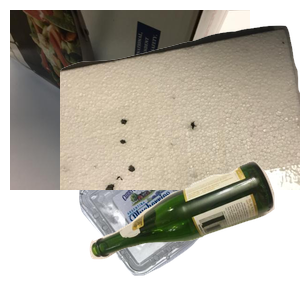cardboard: (10, 10, 250, 190)
glass: (87, 158, 300, 300)
plastic: (77, 133, 289, 300)
trash: (60, 23, 300, 203)
